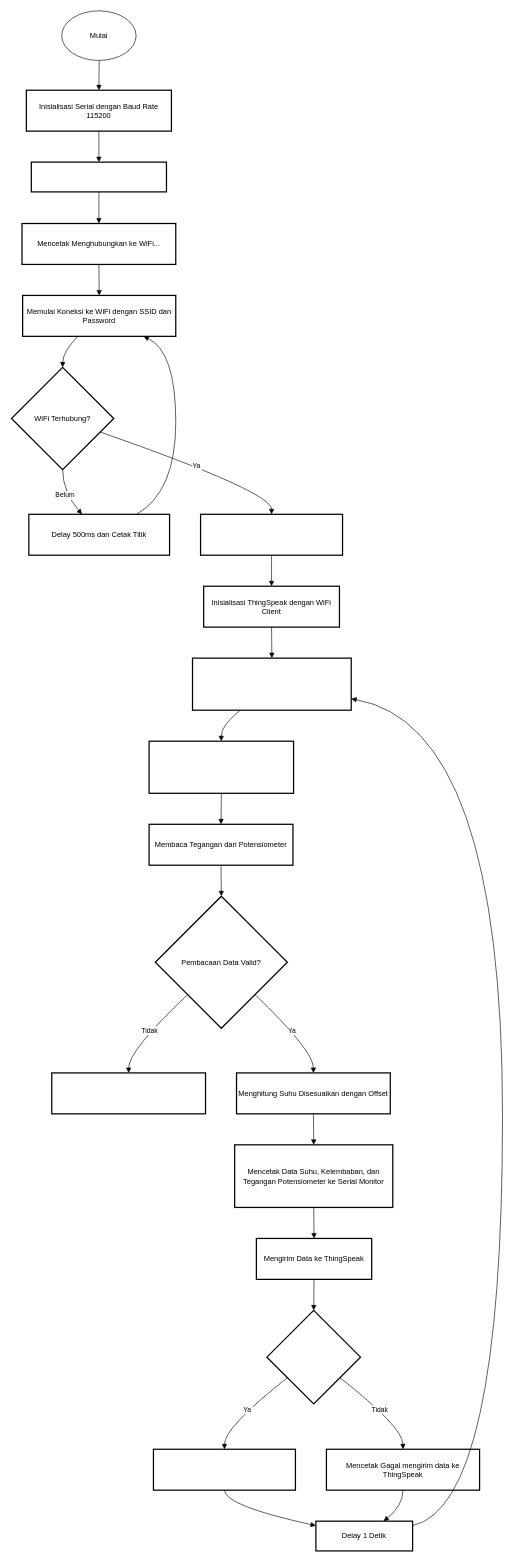
This 513x1562 diagram has some shape labels left out. The centre of each missing label's shape, as x and y in pixels:
Data Terkirim?: pixel 313 1356
Inisialisasi Sensor DHT: pixel 98 176
Loop Membaca Data Sensor dan Mengirim ke ThingSpeak: pixel 272 684
Membaca Suhu dan Kelembaban dari Sensor DHT: pixel 221 767
Mencetak Data berhasil dikirim ke ThingSpeak: pixel 224 1469
Mencetak Gagal membaca dari sensor DHT: pixel 128 1093
Mencetak Terhubung ke WiFi: pixel 271 534
